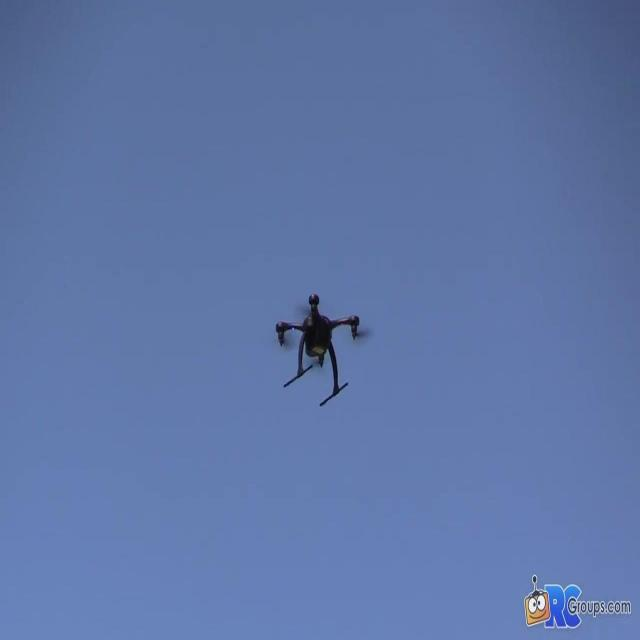UAV: (276, 294, 374, 406)
